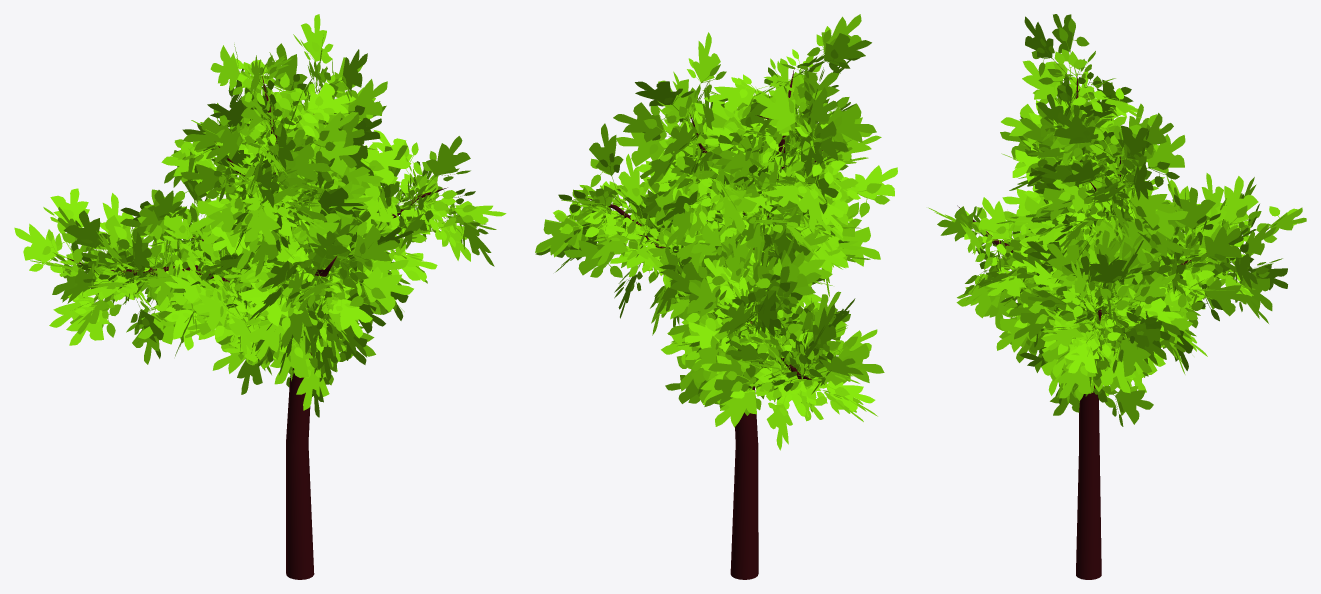
Rendered from tree.fbx.
The picture shows the model from 3 angles, left to right: view 1: azimuth 30°, elevation 25°; view 2: azimuth 150°, elevation 25°; view 3: azimuth 270°, elevation 25°; orthographic projection. The views are drawn at different scales.
Parts seen in each view (by area): view 1: Tree, Tree|Leaf|Dupli|296, Tree|Leaf|Dupli|297, Tree|Leaf|Dupli|170, Tree|Leaf|Dupli|97, Tree|Leaf|Dupli|196, Tree|Leaf|Dupli|21, Tree|Leaf|Dupli|305, Tree|Leaf|Dupli|78, Tree|Leaf|Dupli|178, Tree|Leaf|Dupli|90, Tree|Leaf|Dupli|302 (+51 smaller); view 2: Tree, Tree|Leaf|Dupli|311, Tree|Leaf|Dupli|30, Tree|Leaf|Dupli|198, Tree|Leaf|Dupli|308, Tree|Leaf|Dupli|201, Tree|Leaf|Dupli|141, Tree|Leaf|Dupli|170, Tree|Leaf|Dupli|160, Tree|Leaf|Dupli|391, Tree|Leaf|Dupli|218, Tree|Leaf|Dupli|75 (+67 smaller); view 3: Tree, Tree|Leaf|Dupli|35, Tree|Leaf|Dupli|143, Tree|Leaf|Dupli|218, Tree|Leaf|Dupli|195, Tree|Leaf|Dupli|210, Tree|Leaf|Dupli|220, Tree|Leaf|Dupli|158, Tree|Leaf|Dupli|84, Tree|Leaf|Dupli|34, Tree|Leaf|Dupli|214, Tree|Leaf|Dupli|198 (+55 smaller).
Part boxes in pixels (x1,y1,x2,y2): Tree: (67,76,447,579); Tree|Leaf|Dupli|296: (320,259,413,314); Tree|Leaf|Dupli|297: (313,222,399,282); Tree|Leaf|Dupli|170: (399,136,470,208); Tree|Leaf|Dupli|97: (14,223,92,273); Tree|Leaf|Dupli|196: (275,82,355,139); Tree|Leaf|Dupli|21: (413,178,506,232); Tree|Leaf|Dupli|305: (220,174,280,244); Tree|Leaf|Dupli|78: (61,210,123,274); Tree|Leaf|Dupli|178: (293,14,338,93); Tree|Leaf|Dupli|90: (66,272,135,345); Tree|Leaf|Dupli|302: (246,137,331,186); Tree: (588,69,822,579); Tree|Leaf|Dupli|311: (754,85,828,153); Tree|Leaf|Dupli|30: (535,191,610,255); Tree|Leaf|Dupli|198: (781,29,871,93); Tree|Leaf|Dupli|308: (790,141,845,233); Tree|Leaf|Dupli|201: (704,58,798,117); Tree|Leaf|Dupli|141: (613,102,703,159); Tree|Leaf|Dupli|170: (589,123,629,217); Tree|Leaf|Dupli|160: (692,165,759,233); Tree|Leaf|Dupli|391: (564,225,652,277); Tree|Leaf|Dupli|218: (686,277,749,338); Tree|Leaf|Dupli|75: (759,362,813,450); Tree: (957,76,1206,579); Tree|Leaf|Dupli|35: (1056,321,1120,398); Tree|Leaf|Dupli|143: (1054,112,1123,172); Tree|Leaf|Dupli|218: (1171,226,1241,282); Tree|Leaf|Dupli|195: (1024,16,1087,93); Tree|Leaf|Dupli|210: (1090,176,1177,231); Tree|Leaf|Dupli|220: (1172,187,1220,260); Tree|Leaf|Dupli|158: (1115,134,1185,199); Tree|Leaf|Dupli|84: (1215,176,1261,246); Tree|Leaf|Dupli|34: (1100,273,1175,327); Tree|Leaf|Dupli|214: (1170,265,1252,321); Tree|Leaf|Dupli|198: (1052,14,1095,86).
Size of the model in its own units: 635 by 882 by 583.
